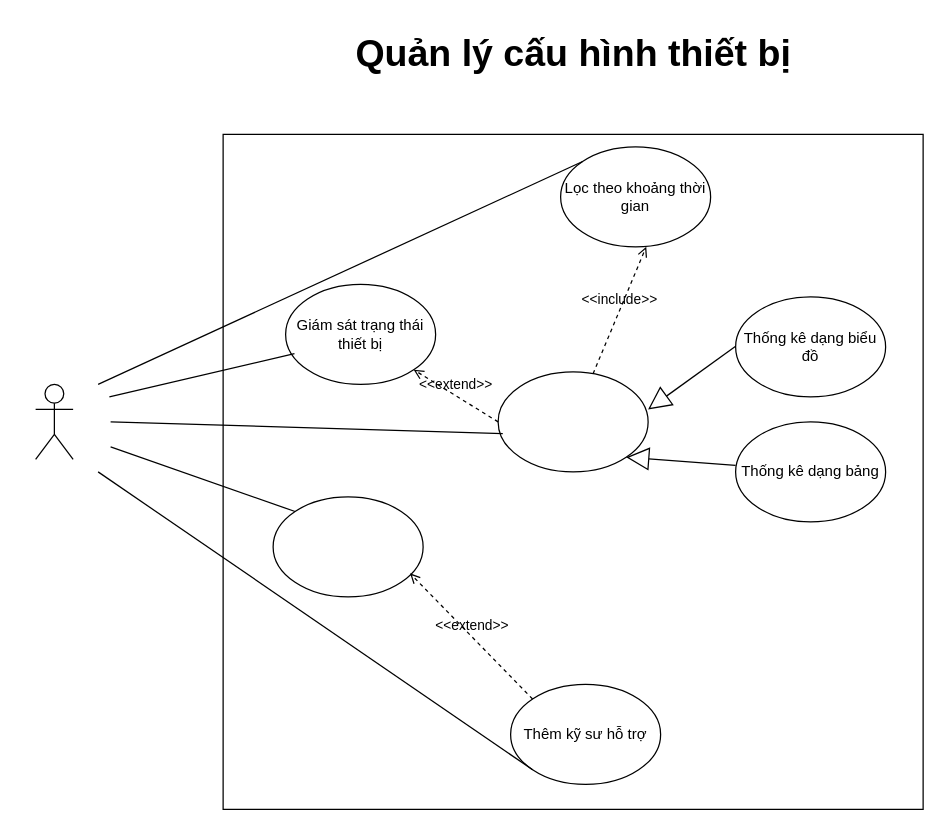
Some shapes in this 945 by 831 pixel diagram are drawn without their labels. Each missing label, with the box of its shape:
Chỉnh sửa cấu hình thiết bị: (272, 496, 423, 597)
Customer: (34, 383, 73, 459)
Thống kê trạng thái 1 thuộc tính: (497, 371, 648, 472)
